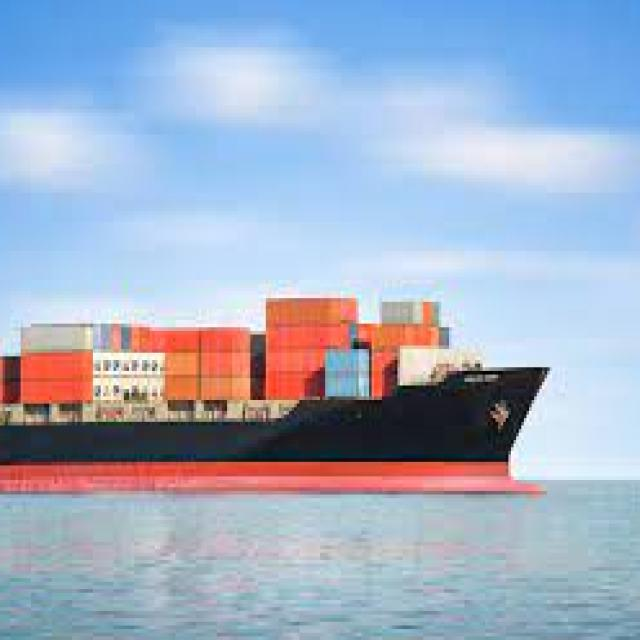cargoship: (0, 269, 553, 501)
